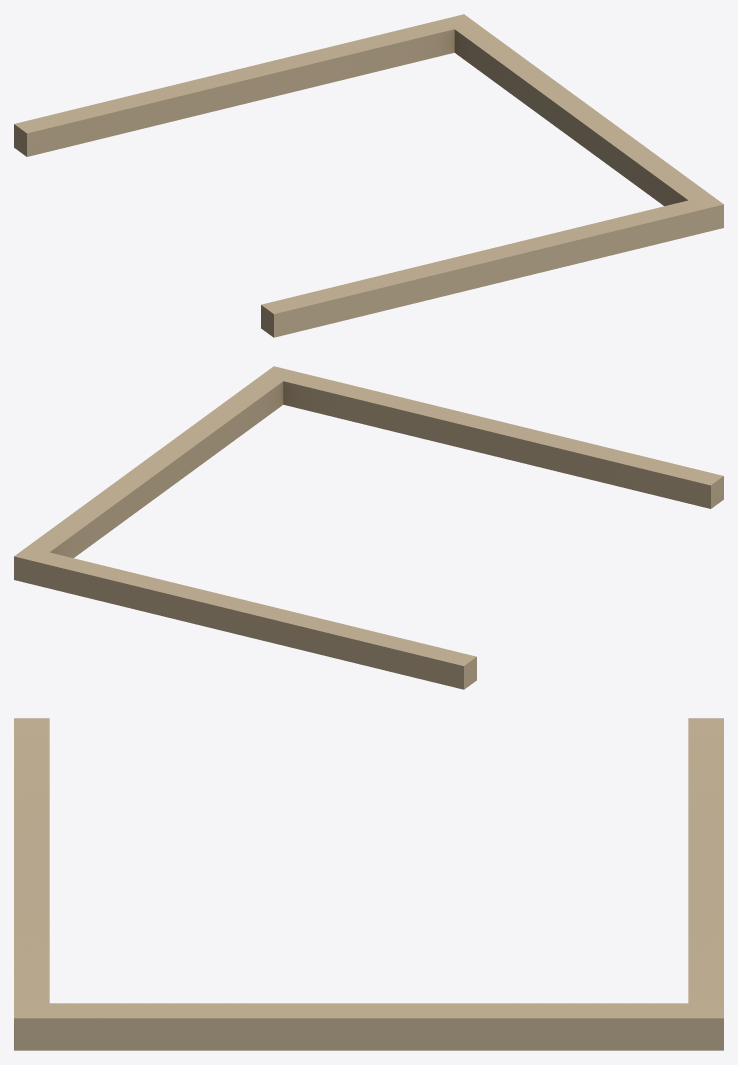
3 views of the same model, one above another, from view 1: azimuth 30°, elevation 25°; view 2: azimuth 150°, elevation 25°; view 3: azimuth 270°, elevation 25° (orthographic). The views are drawn at different scales.
Visible parts, largest first — view 1: Deco_ring_3; view 2: Deco_ring_3; view 3: Deco_ring_3.
Boxes of the visible parts, bbox=[...] form: Deco_ring_3: bbox=[14, 14, 723, 337]; Deco_ring_3: bbox=[14, 366, 723, 689]; Deco_ring_3: bbox=[14, 718, 723, 1050].
Bounding box in the file's own units: 20 × 1 × 20.
Materials: 1 (1 with a texture image).
